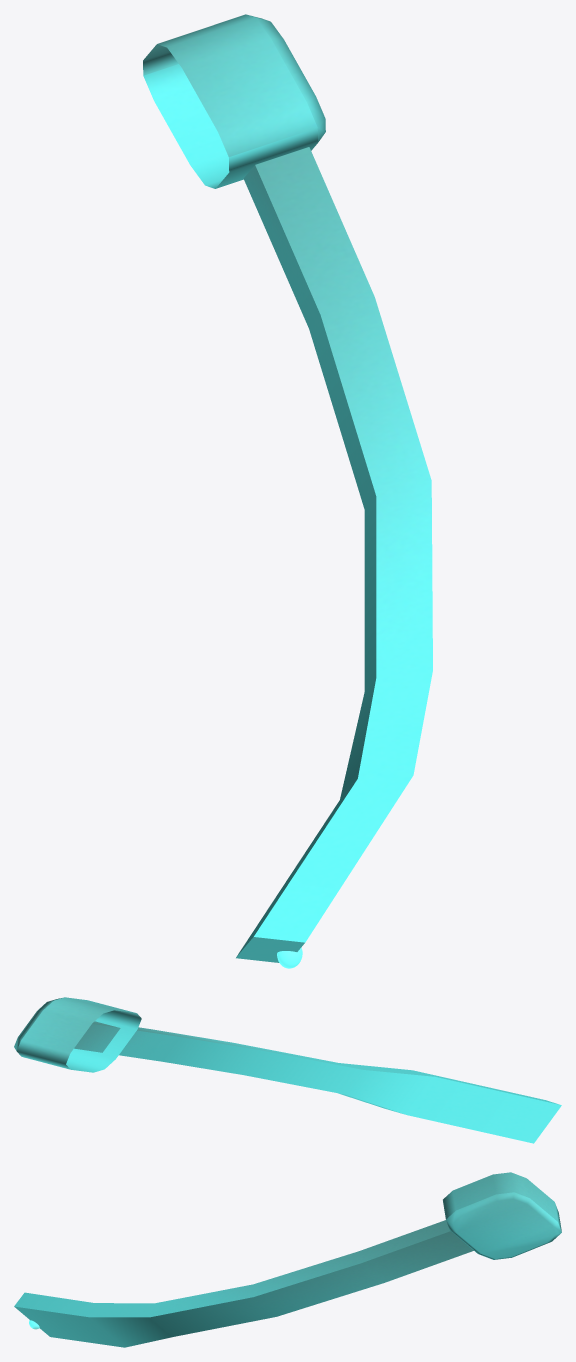
Rendered from Serah_Headset.fbx.
The picture shows the model from 3 angles, top to bottom: view 1: azimuth 30°, elevation 25°; view 2: azimuth 150°, elevation 25°; view 3: azimuth 270°, elevation 25°; orthographic projection. The views are drawn at different scales.
Visible parts, largest first — view 1: headset_mic; view 2: headset_mic; view 3: headset_mic.
Boxes of the visible parts, <box> form: headset_mic: <box>143,14,432,962</box>; headset_mic: <box>14,997,561,1143</box>; headset_mic: <box>14,1172,561,1347</box>.
Bounding box in the file's own units: 6.6 × 5.98 × 11.86.
